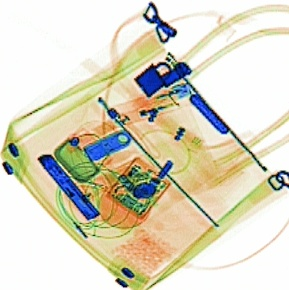knife: (35, 152, 102, 222)
lighter: (103, 79, 195, 129)
